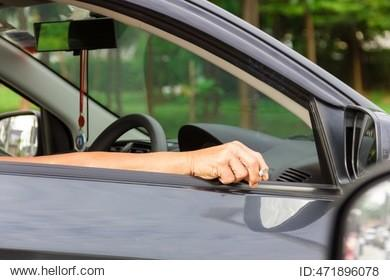Cigarette: (260, 166, 267, 181)
